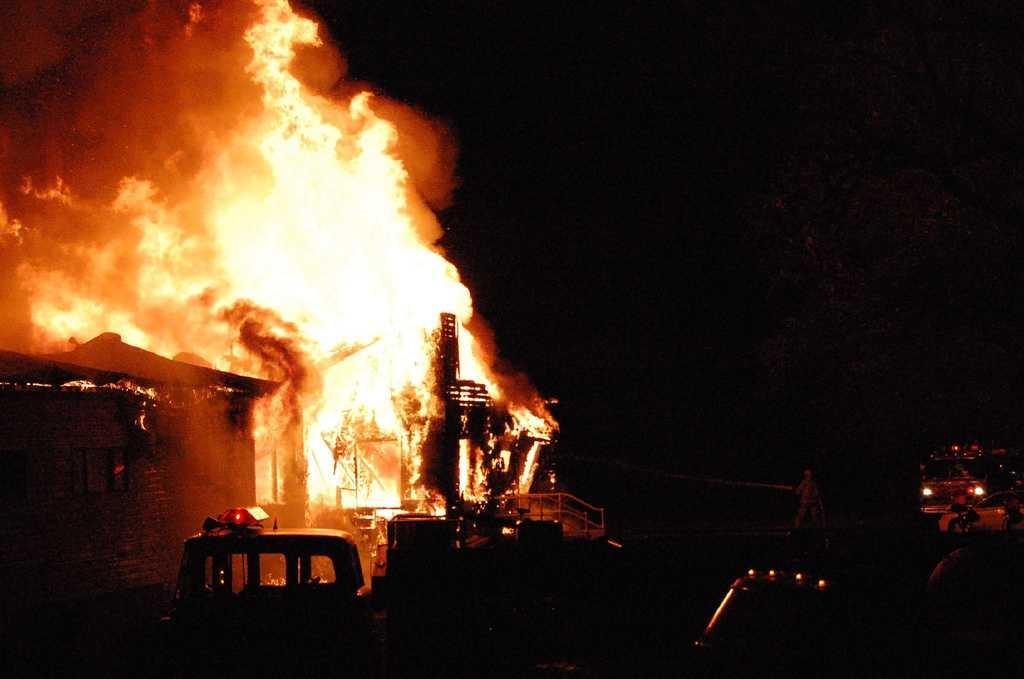fire: (158, 148, 415, 300), (328, 313, 415, 442)
